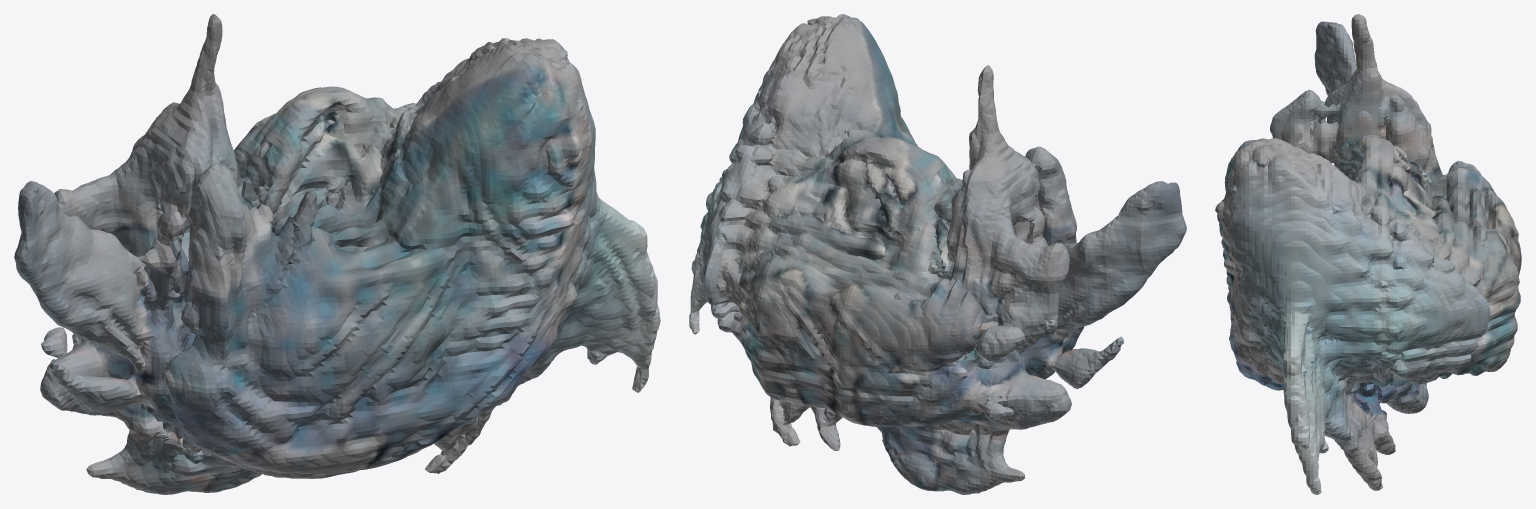
Rendered from echo-mid.glb.
3 renders of one model, left to right at view 1: azimuth 30°, elevation 25°; view 2: azimuth 150°, elevation 25°; view 3: azimuth 270°, elevation 25°, orthographic. The views are drawn at different scales.
Parts seen in each view (by area): view 1: world; view 2: world; view 3: world.
Part boxes in pixels (x1,y1,x2,y2): world: (14,14,660,494); world: (689,14,1186,494); world: (1215,14,1521,494).
Bounding box in the file's own units: 0.9724 × 0.7755 × 0.5497.
